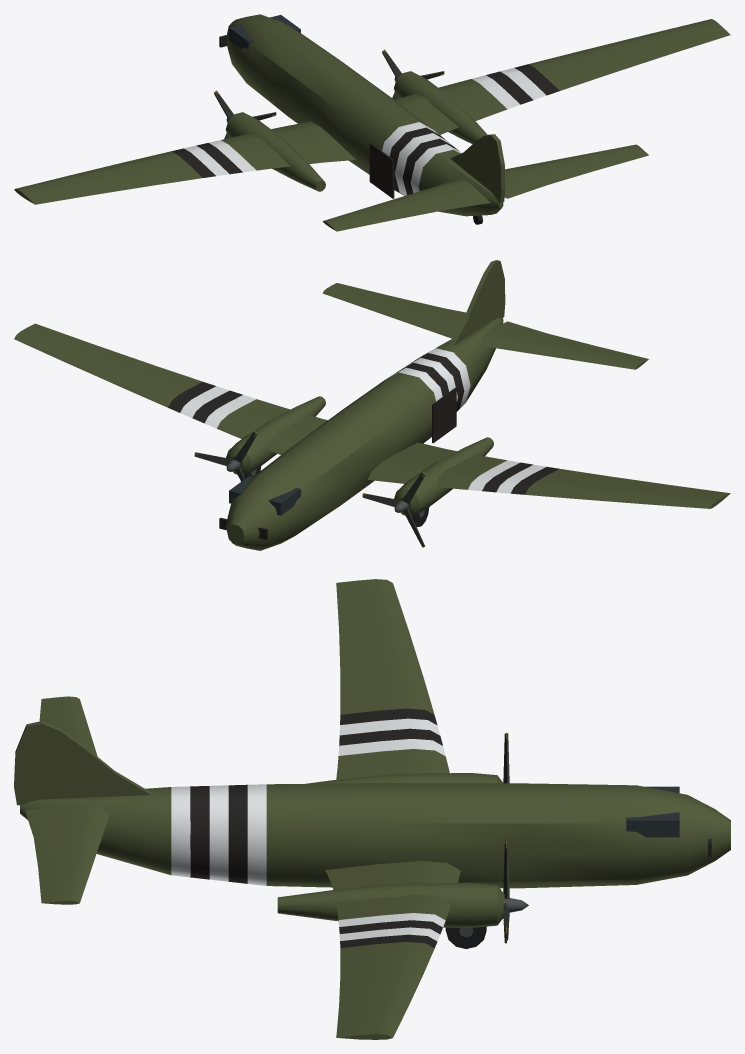
The picture shows the model from 3 angles, top to bottom: view 1: azimuth 30°, elevation 25°; view 2: azimuth 150°, elevation 25°; view 3: azimuth 270°, elevation 25°; orthographic projection. The views are drawn at different scales.
Parts seen in each view (by area): view 1: c47; view 2: c47, prop_l, prop_r; view 3: c47, prop_r.
Boxes of the visible parts, x1=… form: c47: x1=14, y1=14, x2=730, y2=231; c47: x1=14, y1=260, x2=730, y2=550; prop_l: x1=362, y1=472, x2=425, y2=547; prop_r: x1=194, y1=431, x2=257, y2=481; c47: x1=14, y1=579, x2=730, y2=1039; prop_r: x1=503, y1=842, x2=528, y2=943.
Size of the model in its own units: 29.4 by 5.38 by 19.58.
